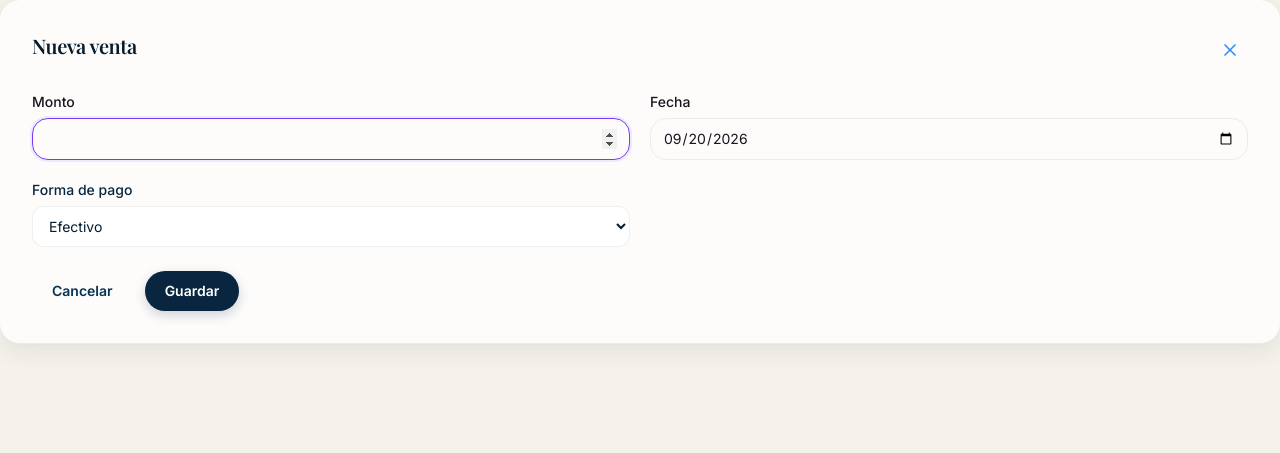
it: VentaForm — the customer field appears for cuenta corriente (task 6.1) › switching from TARJETA to CUENTA_CORRIENTE also reveals it (triangulation — different starting method)
Select "Tarjeta" in the dropdown labelled "Forma de pago" at (331, 226), box [32,206,630,247]
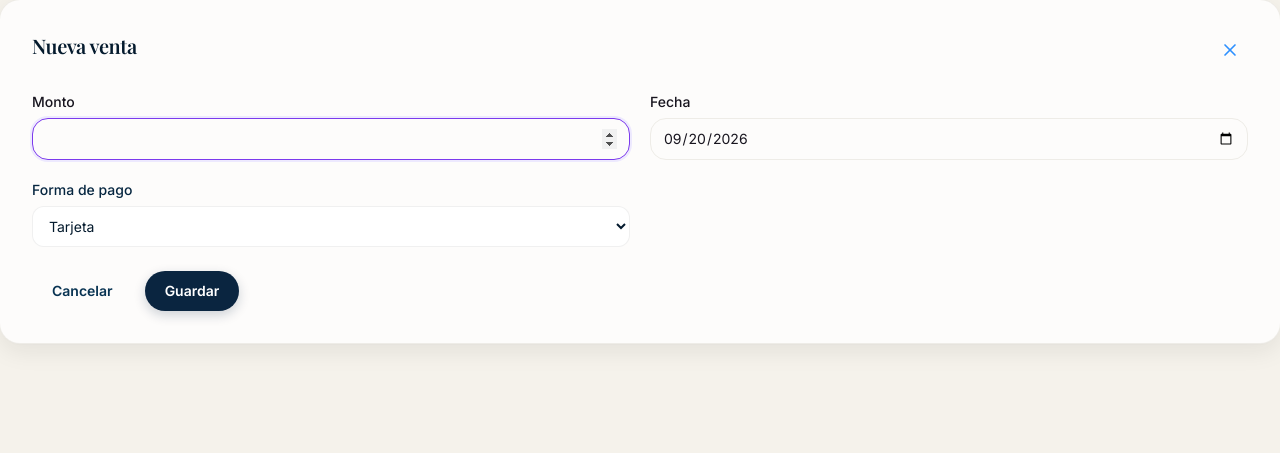
expect the field with placeholder "buscar cliente" is not shown: met
Select "Cuenta corriente" in the dropdown labelled "Forma de pago" at (331, 226), box [32,206,630,247]
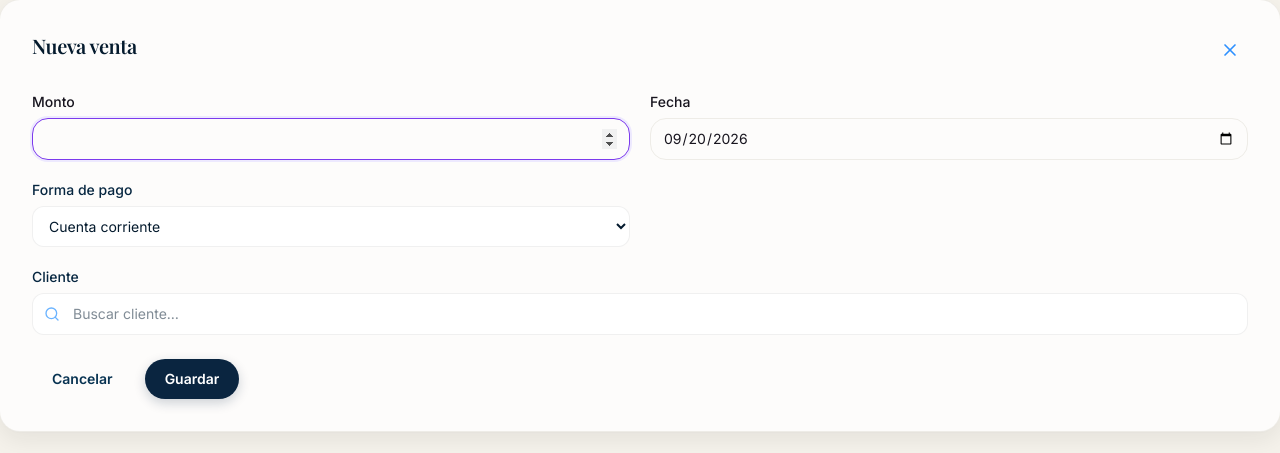
expect the dropdown with placeholder "Buscar cliente…" is shown: met, box [32,293,1248,335]
